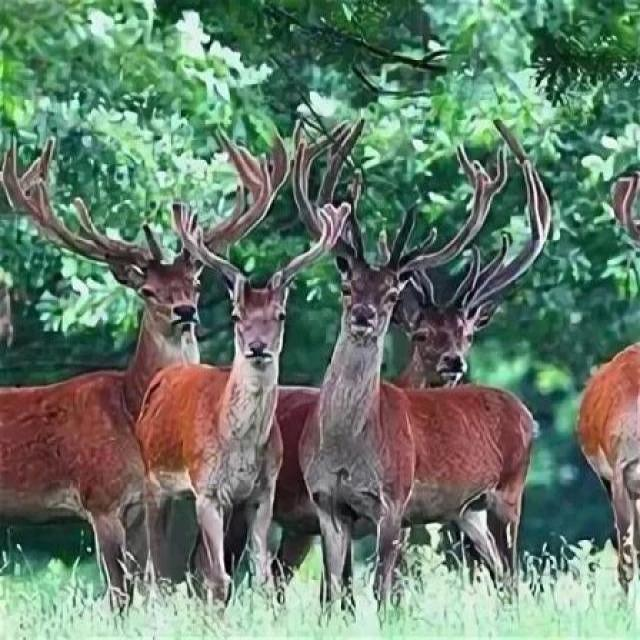deer: (0, 177, 268, 586), (295, 217, 537, 596), (116, 219, 322, 610), (308, 201, 540, 516), (552, 274, 640, 574)
